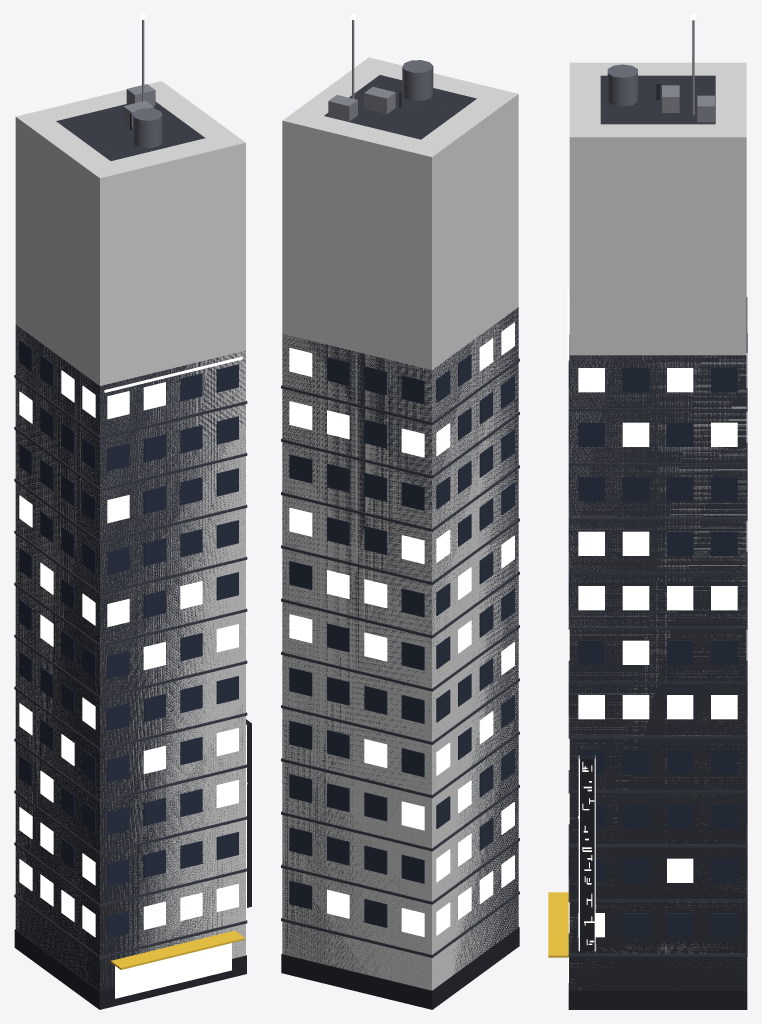
File: torre_neon_b.glb
3 views of the same model, side by side, from view 1: azimuth 30°, elevation 25°; view 2: azimuth 150°, elevation 25°; view 3: azimuth 270°, elevation 25° (orthographic). The views are drawn at different scales.
Parts seen in each view (by area): view 1: torre_neon_b_Malla, COL_0; view 2: COL_0, torre_neon_b_Malla; view 3: torre_neon_b_Malla, COL_0.
Part boxes in pixels (x1,y1,x2,y2): torre_neon_b_Malla: (14, 14, 252, 1009); COL_0: (15, 81, 245, 986); COL_0: (282, 57, 518, 990); torre_neon_b_Malla: (281, 14, 519, 1009); torre_neon_b_Malla: (548, 14, 747, 1009); COL_0: (569, 62, 746, 989).
Size of the model in its own units: 10.83 by 60.68 by 11.26.
